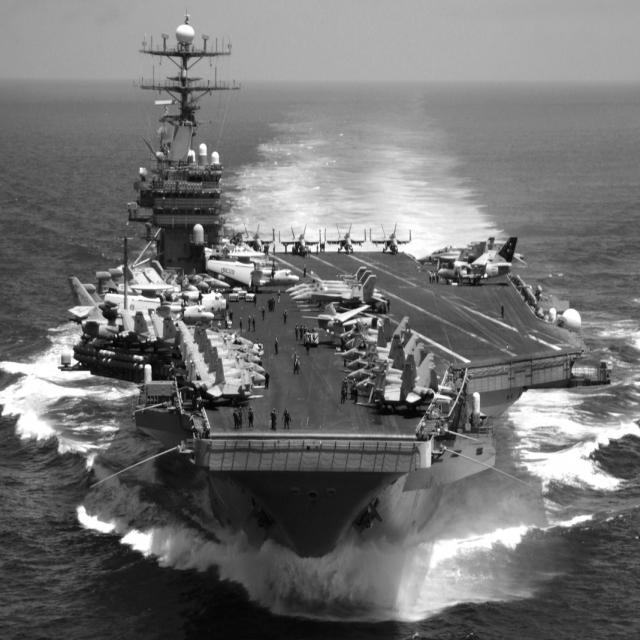Portanaves: (59, 8, 617, 564)
